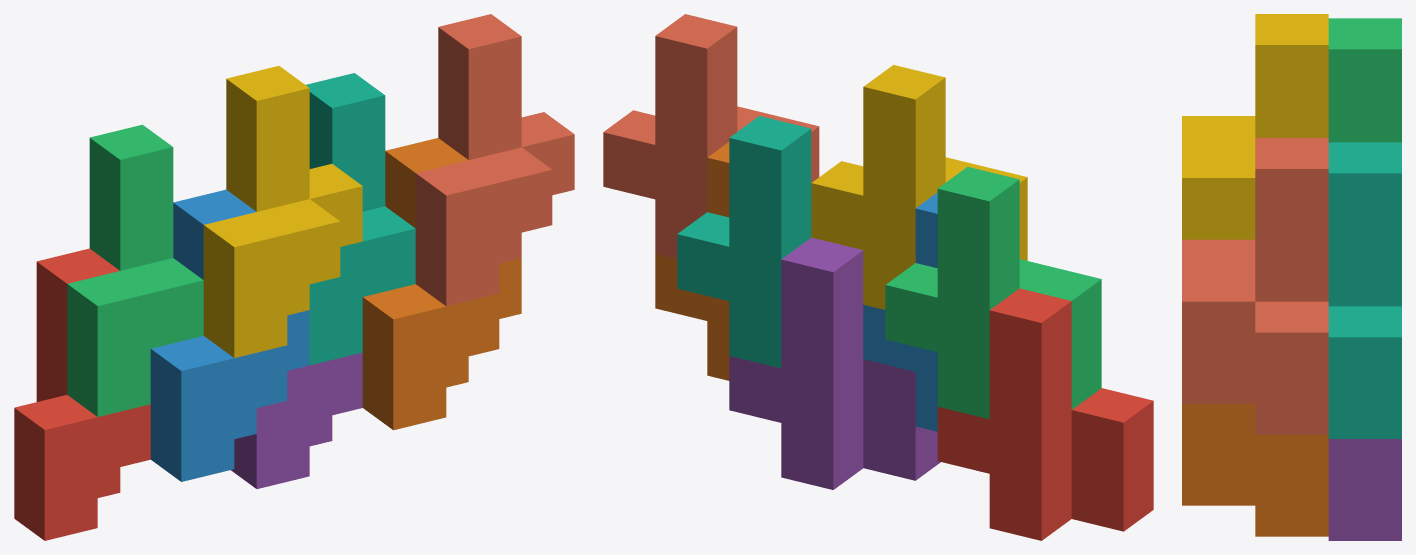
File: tiling.obj
3 renders of one model, left to right at view 1: azimuth 30°, elevation 25°; view 2: azimuth 150°, elevation 25°; view 3: azimuth 270°, elevation 25°, orthographic. The views are drawn at different scales.
Visible parts, largest first — view 1: copy_1_domain_8, copy_1_domain_4, copy_1_domain_3, copy_1_domain_1, copy_1_domain_6, copy_1_domain_2, copy_1_domain_7, copy_1_domain_5; view 2: copy_1_domain_1, copy_1_domain_5, copy_1_domain_3, copy_1_domain_4, copy_1_domain_7, copy_1_domain_8, copy_1_domain_6, copy_1_domain_2; view 3: copy_1_domain_8, copy_1_domain_7, copy_1_domain_4, copy_1_domain_6, copy_1_domain_3, copy_1_domain_5.
Part boxes in pixels (x1,y1,x2,y2): copy_1_domain_8: (415,14,574,306); copy_1_domain_4: (203,66,362,357); copy_1_domain_3: (67,124,203,416); copy_1_domain_1: (14,248,150,540); copy_1_domain_6: (362,138,521,430); copy_1_domain_2: (150,189,309,481); copy_1_domain_7: (306,73,415,365); copy_1_domain_5: (231,352,362,488); copy_1_domain_1: (937,288,1153,540); copy_1_domain_5: (729,237,940,489); copy_1_domain_3: (885,166,1101,419); copy_1_domain_4: (811,65,1027,309); copy_1_domain_7: (677,116,811,368); copy_1_domain_8: (603,14,819,258); copy_1_domain_6: (655,142,729,380); copy_1_domain_2: (863,192,937,431); copy_1_domain_8: (1182,138,1328,434); copy_1_domain_7: (1328,142,1401,438); copy_1_domain_4: (1182,14,1328,239); copy_1_domain_6: (1182,403,1328,536); copy_1_domain_3: (1328,18,1401,142); copy_1_domain_5: (1328,439,1401,540).
Bounding box in the file's own units: 10 × 7 × 3.
